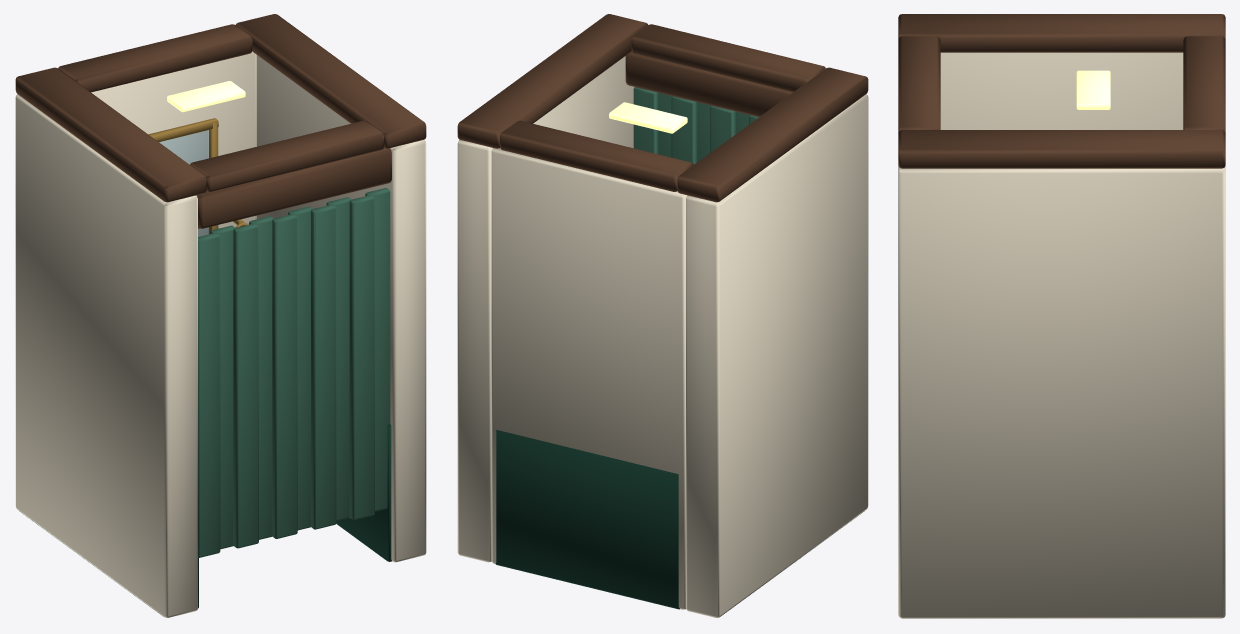
The model's file is asset_063_pro_shop_fitting_room.glb.
3 views of the same model, side by side, from view 1: azimuth 30°, elevation 25°; view 2: azimuth 150°, elevation 25°; view 3: azimuth 270°, elevation 25° (orthographic). The views are drawn at different scales.
Visible parts, largest first — view 1: MESH_WestWall, MESH_FittingCurtainPleated, MESH_FittingRoomCrown, MESH_EastWall, MESH_RearWall, MESH_FrontHeader, MESH_FittingRoomWainscot, MESH_InteriorLightLens, MESH_MirrorGlass, MESH_MirrorFrame; view 2: MESH_WestWall, MESH_RearWall, MESH_FittingRoomCrown, MESH_FittingRoomWainscot, MESH_EastWall, MESH_FrontHeader, MESH_FittingCurtainPleated, MESH_InteriorLightLens; view 3: MESH_EastWall, MESH_FittingRoomCrown, MESH_WestWall, MESH_InteriorLightLens.
Part boxes in pixels (x1,y1,x2,y2): MESH_WestWall: (15, 94, 197, 617); MESH_FittingCurtainPleated: (198, 188, 390, 557); MESH_FittingRoomCrown: (15, 14, 426, 202); MESH_EastWall: (256, 55, 426, 562); MESH_RearWall: (91, 51, 256, 228); MESH_FrontHeader: (196, 148, 391, 228); MESH_FittingRoomWainscot: (19, 424, 391, 614); MESH_InteriorLightLens: (167, 81, 245, 112); MESH_MirrorGlass: (159, 130, 208, 236); MESH_MirrorFrame: (148, 118, 218, 234); MESH_WestWall: (686, 94, 868, 617); MESH_RearWall: (491, 148, 687, 609); MESH_FittingRoomCrown: (457, 14, 868, 202); MESH_FittingRoomWainscot: (495, 430, 864, 614); MESH_EastWall: (457, 56, 634, 562); MESH_FrontHeader: (625, 51, 792, 116); MESH_FittingCurtainPleated: (633, 87, 758, 164); MESH_InteriorLightLens: (609, 102, 687, 133); MESH_EastWall: (898, 165, 1225, 618); MESH_FittingRoomCrown: (898, 14, 1225, 168); MESH_WestWall: (940, 52, 1183, 129); MESH_InteriorLightLens: (1076, 70, 1110, 109).
Size of the model in its own units: 1.55 by 2.45 by 1.55.
